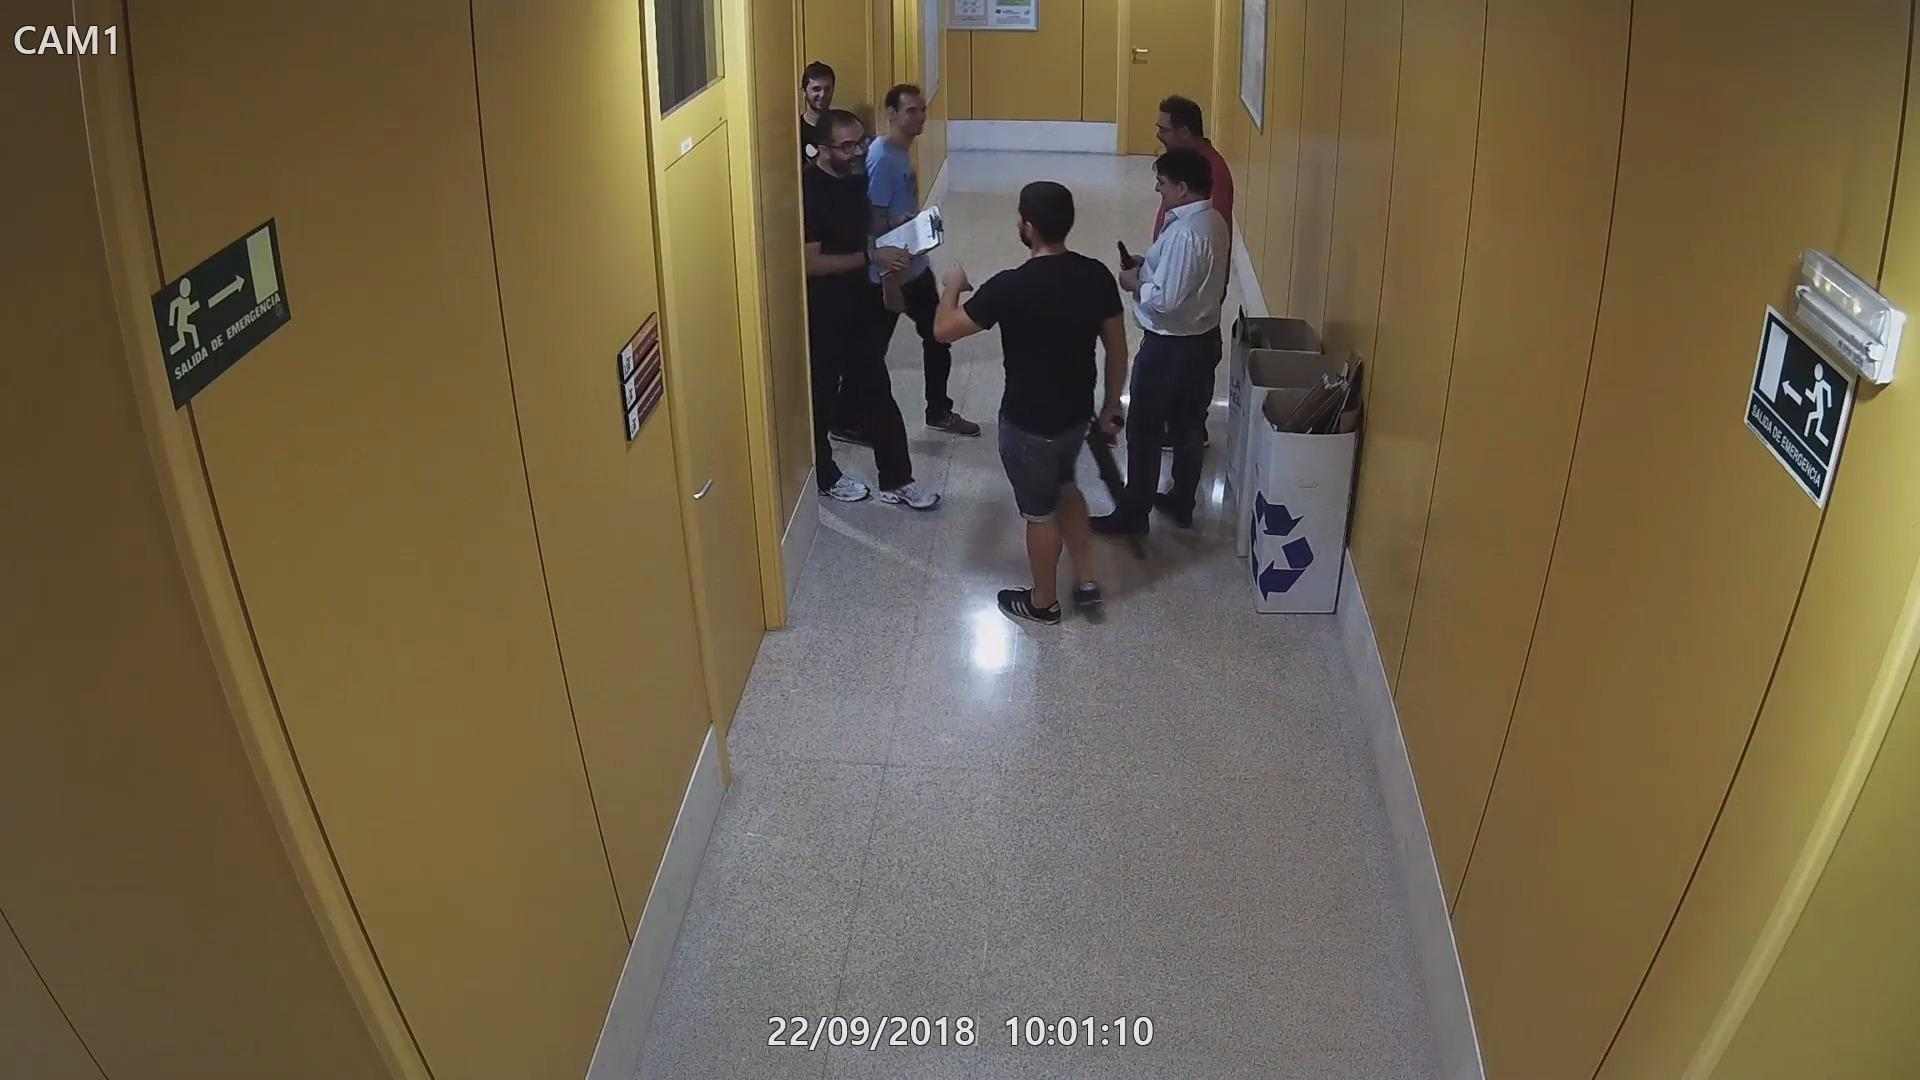Handgun: (1113, 239, 1142, 290)
